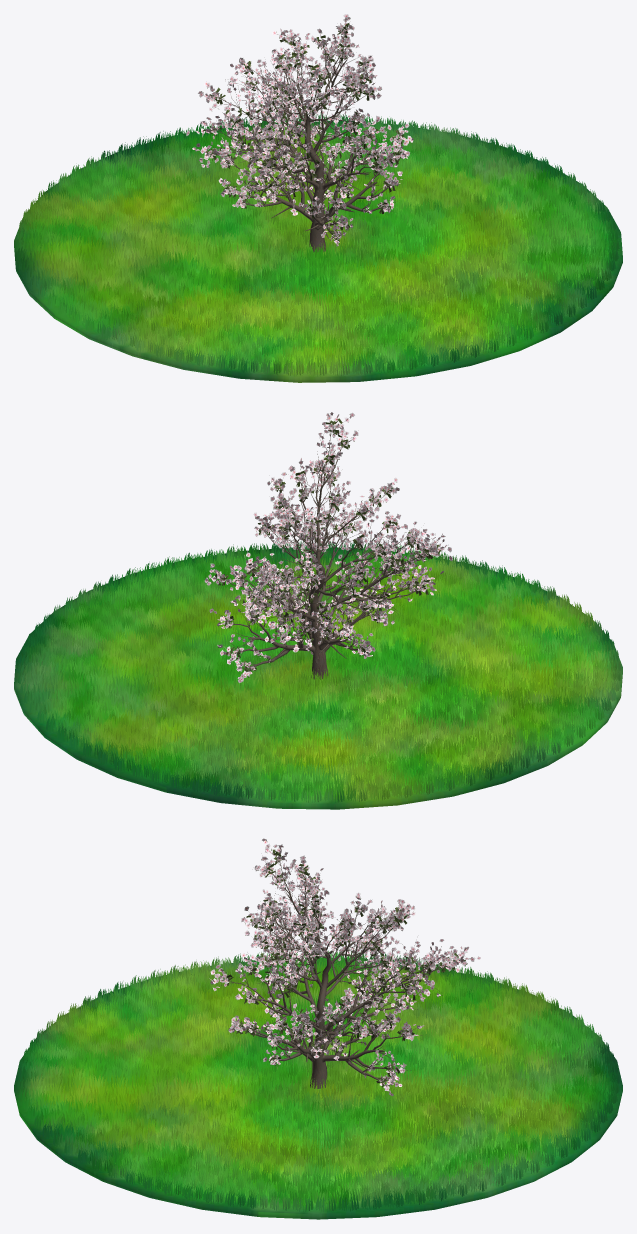
File: garden2.glb
3 renders of one model, top to bottom at view 1: azimuth 30°, elevation 25°; view 2: azimuth 150°, elevation 25°; view 3: azimuth 270°, elevation 25°, orthographic.
Visible parts, largest first — view 1: object 5, Cubo.129, Cubo.129_N00_000_Hair_00_HAIR (Instance)_0.002, Cubo.129_N00_000_Hair_00_HAIR (Instance)_0.001, cherry_0, Cubo.129_N00_000_Hair_00_HAIR (Instance)_0.003; view 2: object 5, Cubo.129, Cubo.129_N00_000_Hair_00_HAIR (Instance)_0.002, Cubo.129_N00_000_Hair_00_HAIR (Instance)_0.001, cherry_0, Cubo.129_N00_000_Hair_00_HAIR (Instance)_0.003; view 3: object 5, Cubo.129, Cubo.129_N00_000_Hair_00_HAIR (Instance)_0.002, Cubo.129_N00_000_Hair_00_HAIR (Instance)_0.001, cherry_0, Cubo.129_N00_000_Hair_00_HAIR (Instance)_0.003.
Boxes of the visible parts, box(x1,y1,x2,y2) form: object 5: box(14, 120, 622, 382); Cubo.129: box(15, 113, 619, 376); Cubo.129_N00_000_Hair_00_HAIR (Instance)_0.002: box(74, 138, 560, 356); Cubo.129_N00_000_Hair_00_HAIR (Instance)_0.001: box(138, 170, 475, 323); cherry_0: box(186, 14, 413, 252); Cubo.129_N00_000_Hair_00_HAIR (Instance)_0.003: box(53, 130, 581, 368); object 5: box(14, 547, 622, 809); Cubo.129: box(17, 541, 621, 802); Cubo.129_N00_000_Hair_00_HAIR (Instance)_0.002: box(76, 565, 562, 777); Cubo.129_N00_000_Hair_00_HAIR (Instance)_0.001: box(161, 596, 498, 751); cherry_0: box(204, 412, 452, 682); Cubo.129_N00_000_Hair_00_HAIR (Instance)_0.003: box(55, 556, 585, 786); object 5: box(14, 957, 622, 1219); Cubo.129: box(17, 950, 619, 1211); Cubo.129_N00_000_Hair_00_HAIR (Instance)_0.002: box(54, 974, 561, 1186); Cubo.129_N00_000_Hair_00_HAIR (Instance)_0.001: box(139, 1001, 497, 1151); cherry_0: box(209, 838, 480, 1096); Cubo.129_N00_000_Hair_00_HAIR (Instance)_0.003: box(62, 966, 582, 1195).
Size of the model in its own units: 128 by 58.51 by 128.
3 materials, 3 textured.
